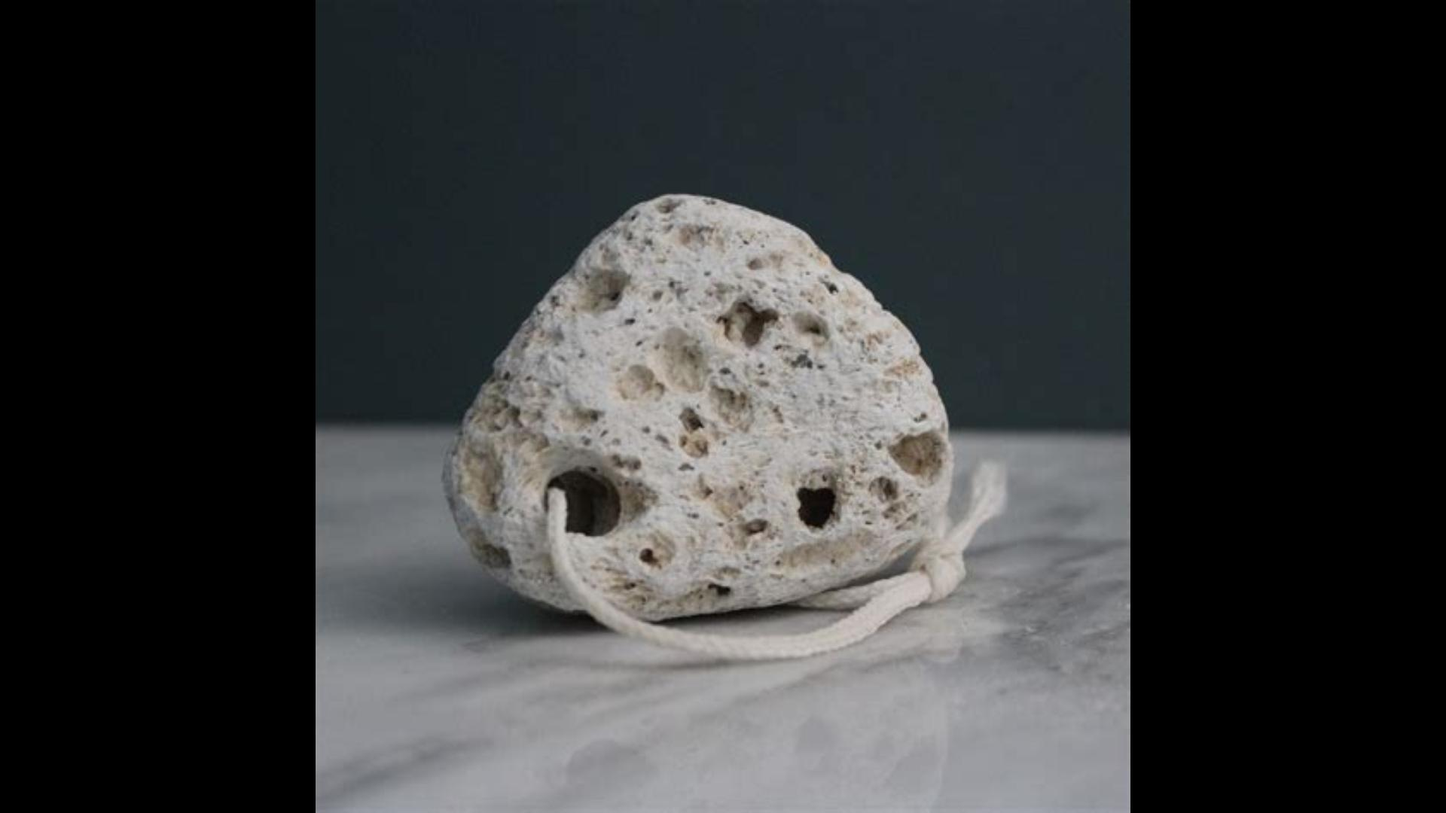rock: (446, 196, 1003, 658)
